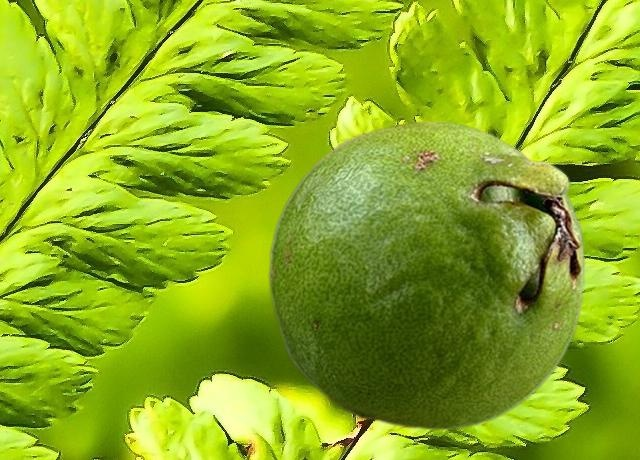guava: (268, 120, 584, 430)
